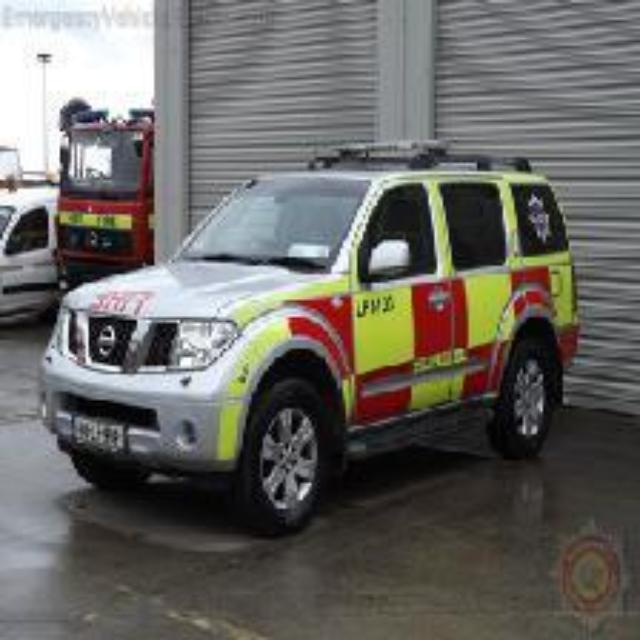emergency: (53, 154, 575, 526), (58, 103, 175, 317)
